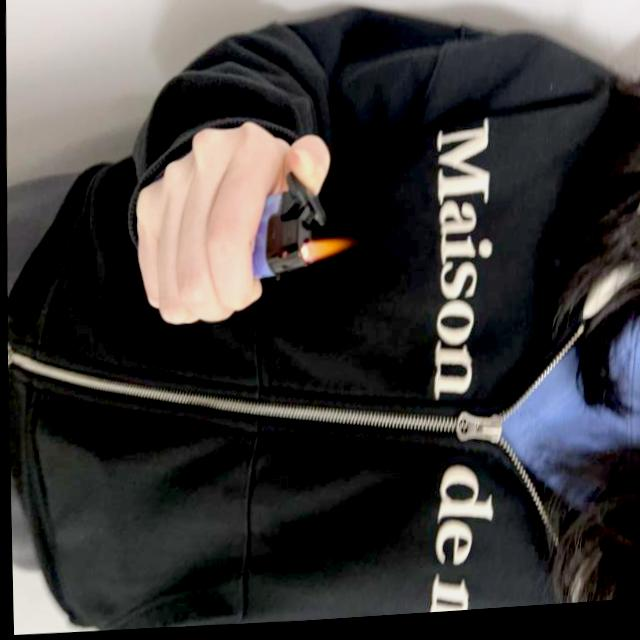Fire: (295, 239, 348, 269)
